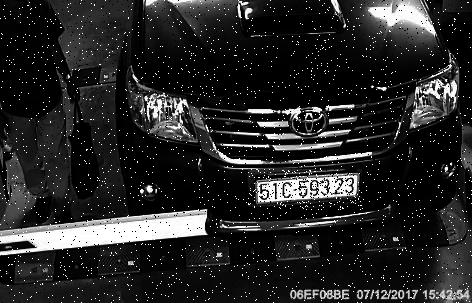License-plate: (250, 171, 365, 211)
